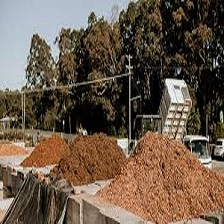clay_soil: (128, 121, 215, 222), (50, 129, 136, 202), (19, 96, 68, 188)
